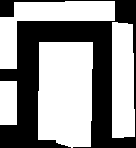parkingspot: (112, 22, 134, 137), (70, 42, 92, 146), (55, 42, 74, 147), (38, 42, 58, 139), (14, 1, 114, 20), (0, 17, 16, 68), (0, 81, 16, 124)
